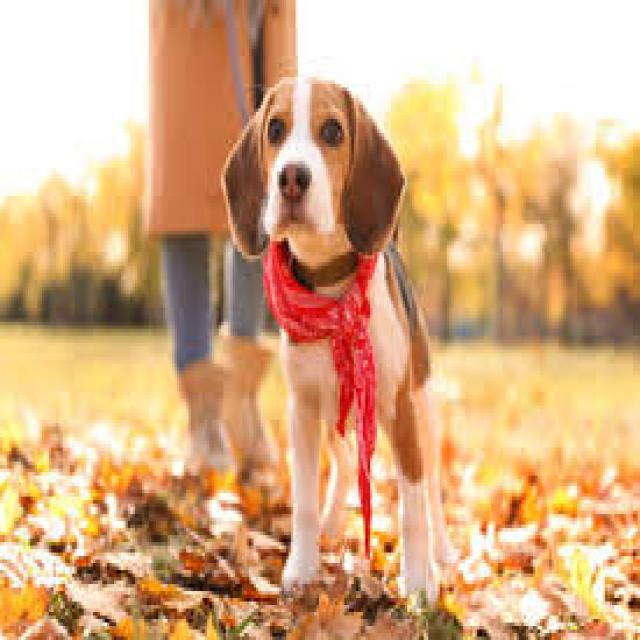Dog: (218, 72, 463, 620)
